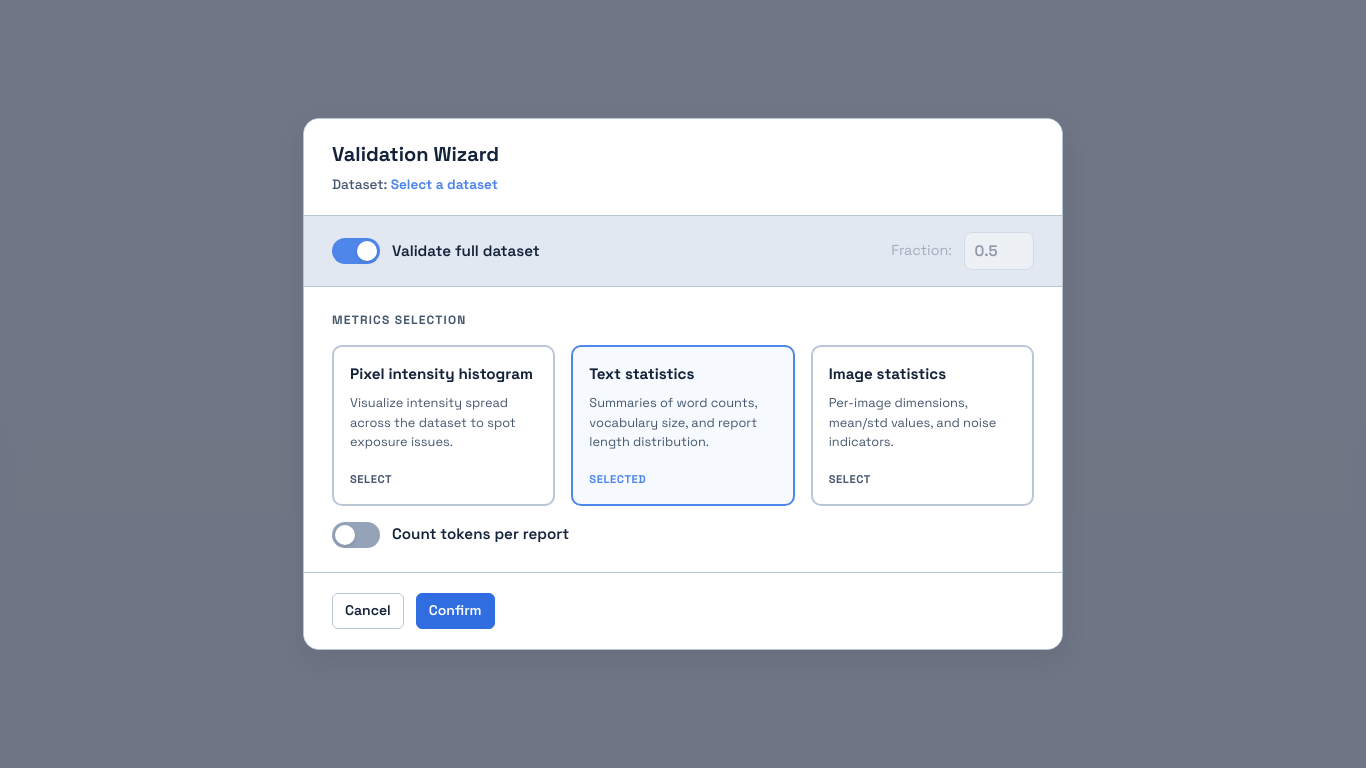
Test: ValidationWizardComponent › requests token counts only for text statistics with a verified tokenizer
Click the button "Count tokens per report".
click(356, 535)  # box [332,522,1034,548]
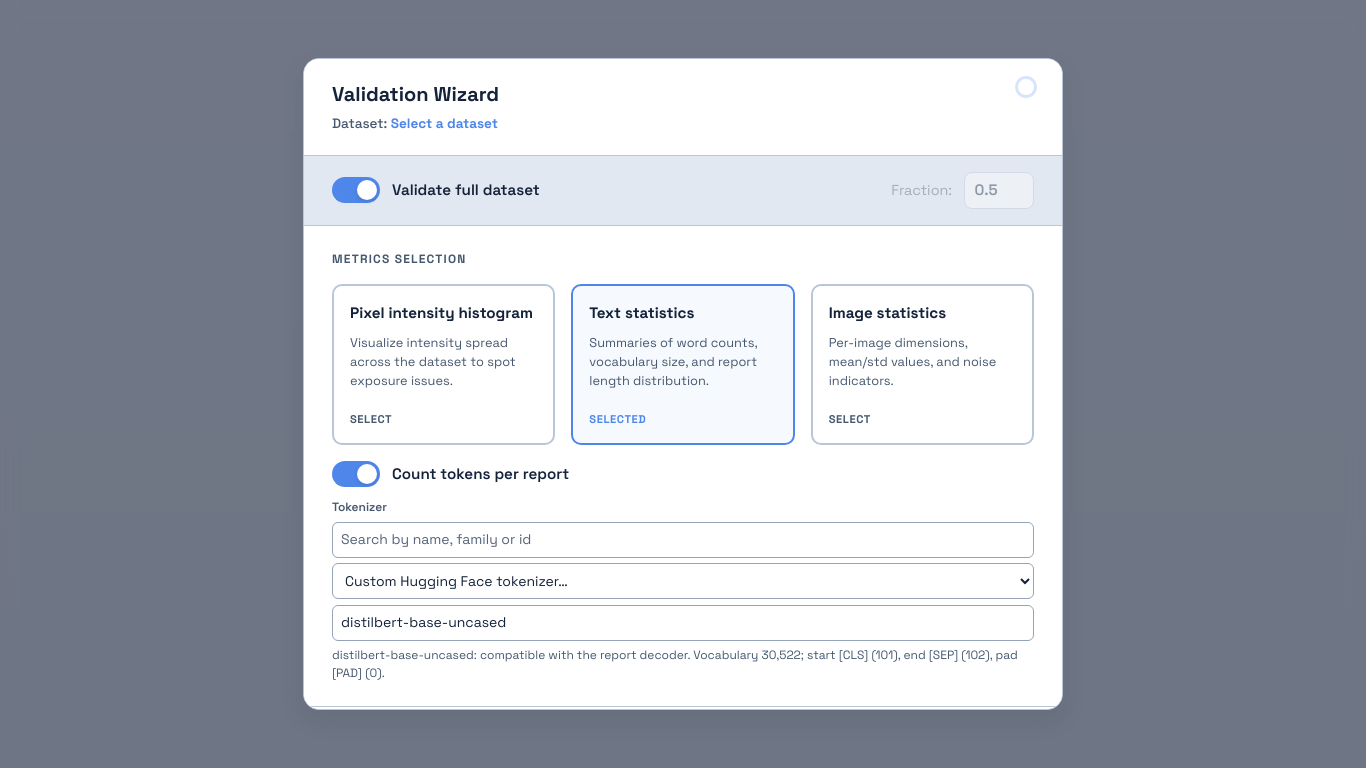
Check: the dropdown named "Tokenizer" is shown, box [332,563,1034,599]
